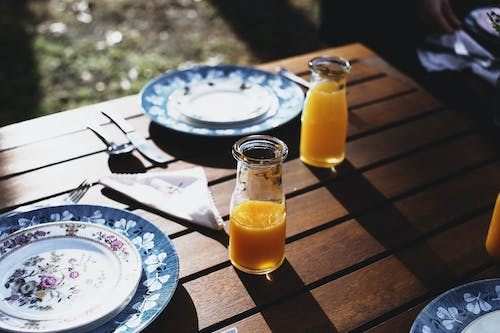knife: (100, 109, 168, 165)
